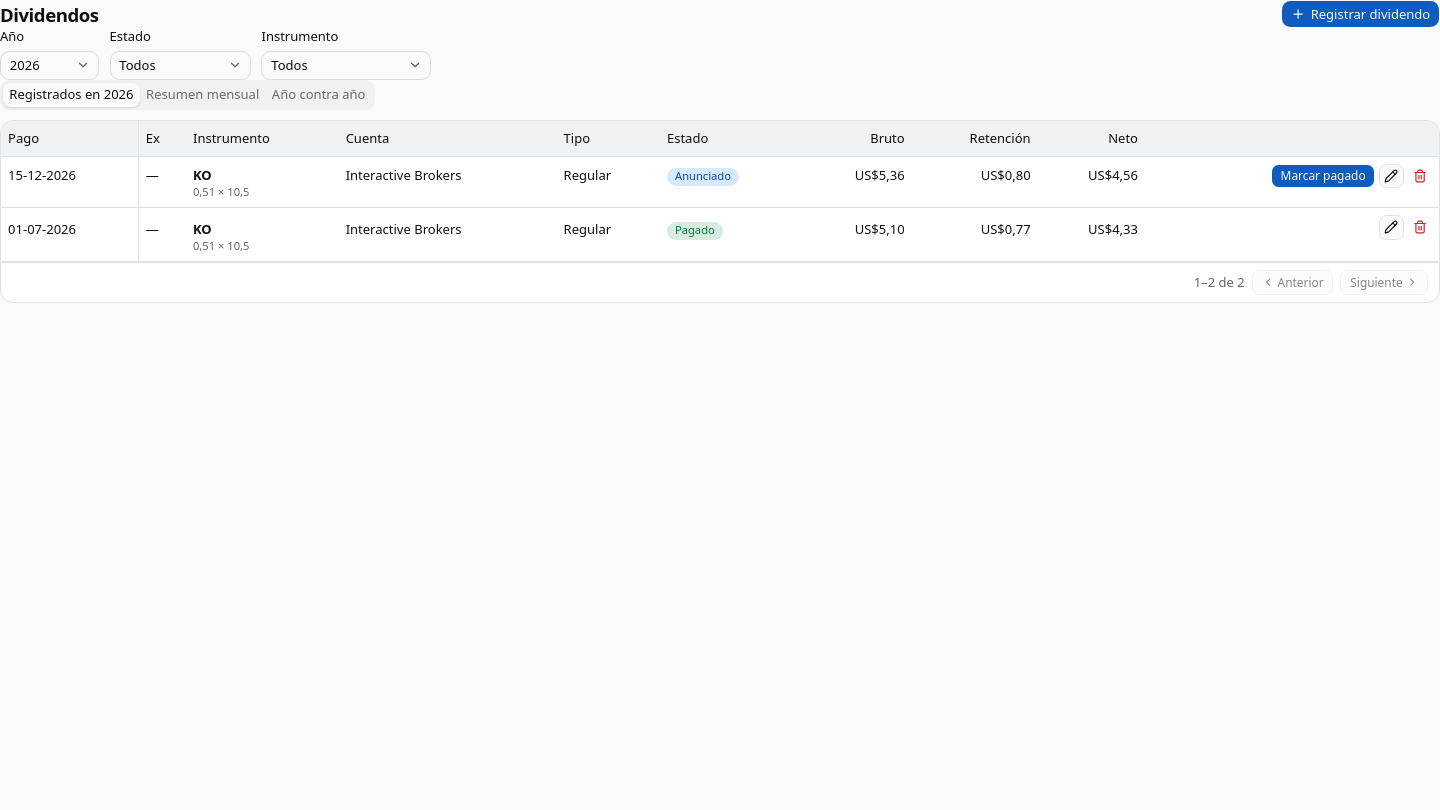
Test: DividendsScreen › "Marcar pagado" valida el neto antes de enviar
Click the button "Marcar pagado" at (1323,176), box [1271,164,1375,188]
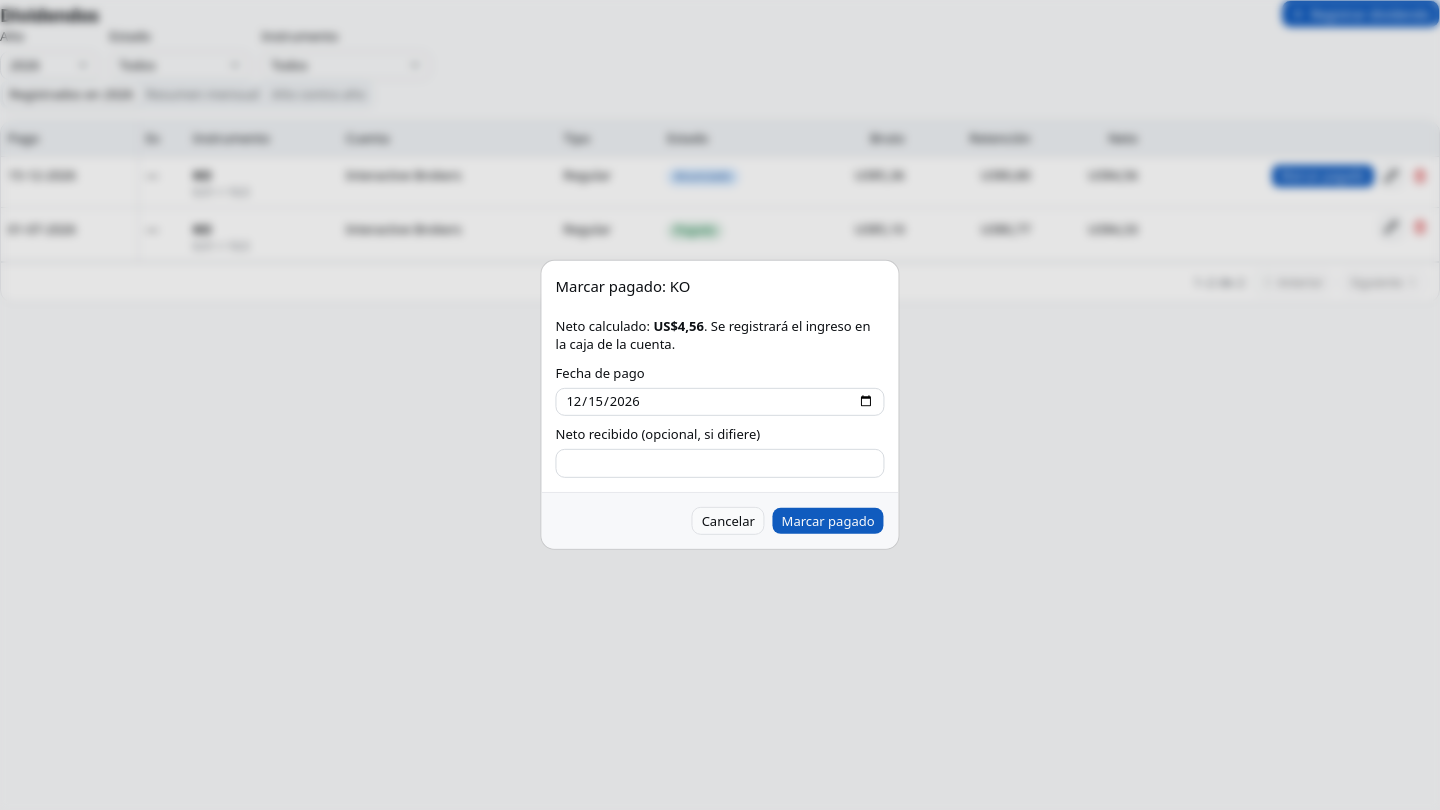
Type "cuatro" into the field labelled "Neto recibido (opcional, si difiere)" at (720,463), box [556,449,884,478]
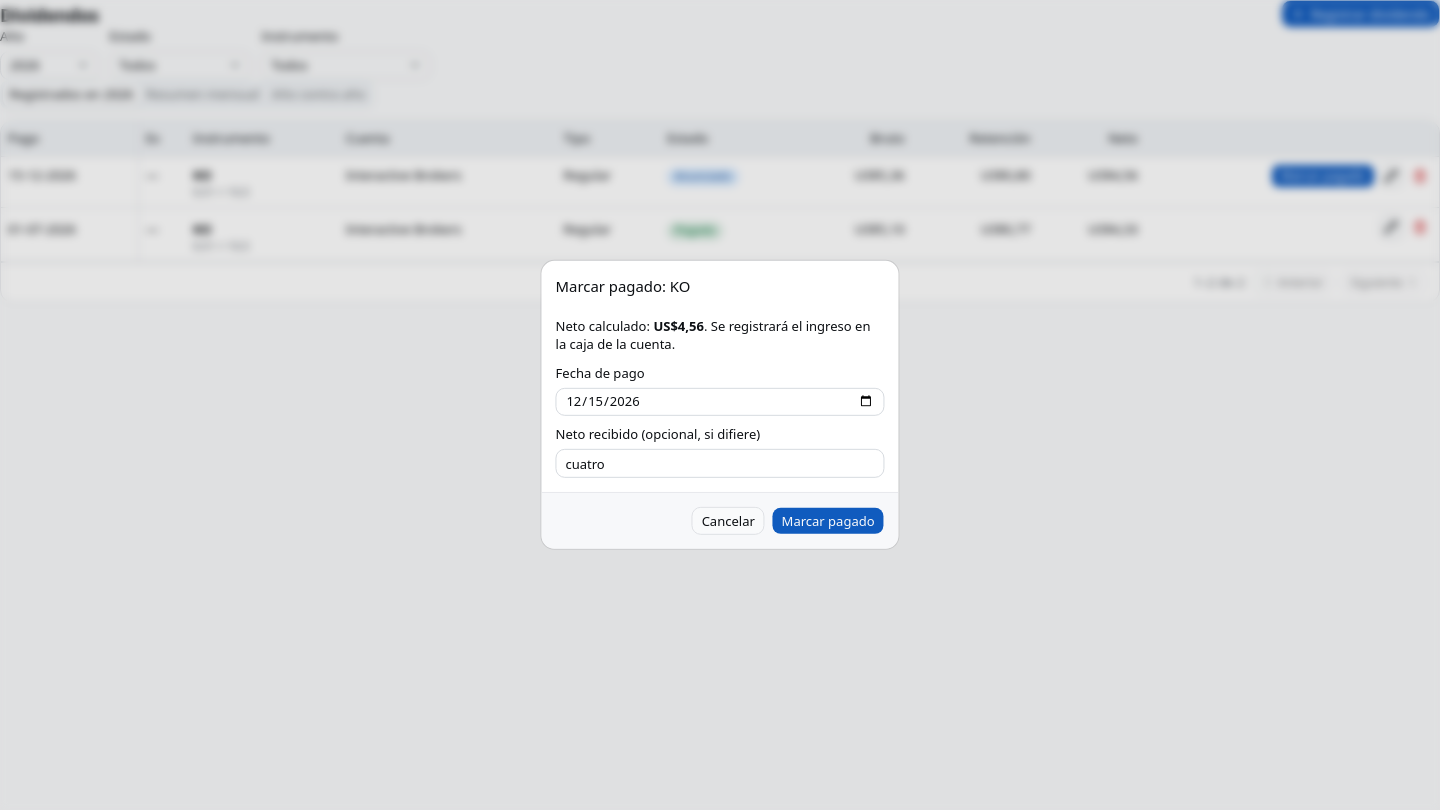
Click the button "Marcar pagado" at (828,521), box [772,507,884,535]
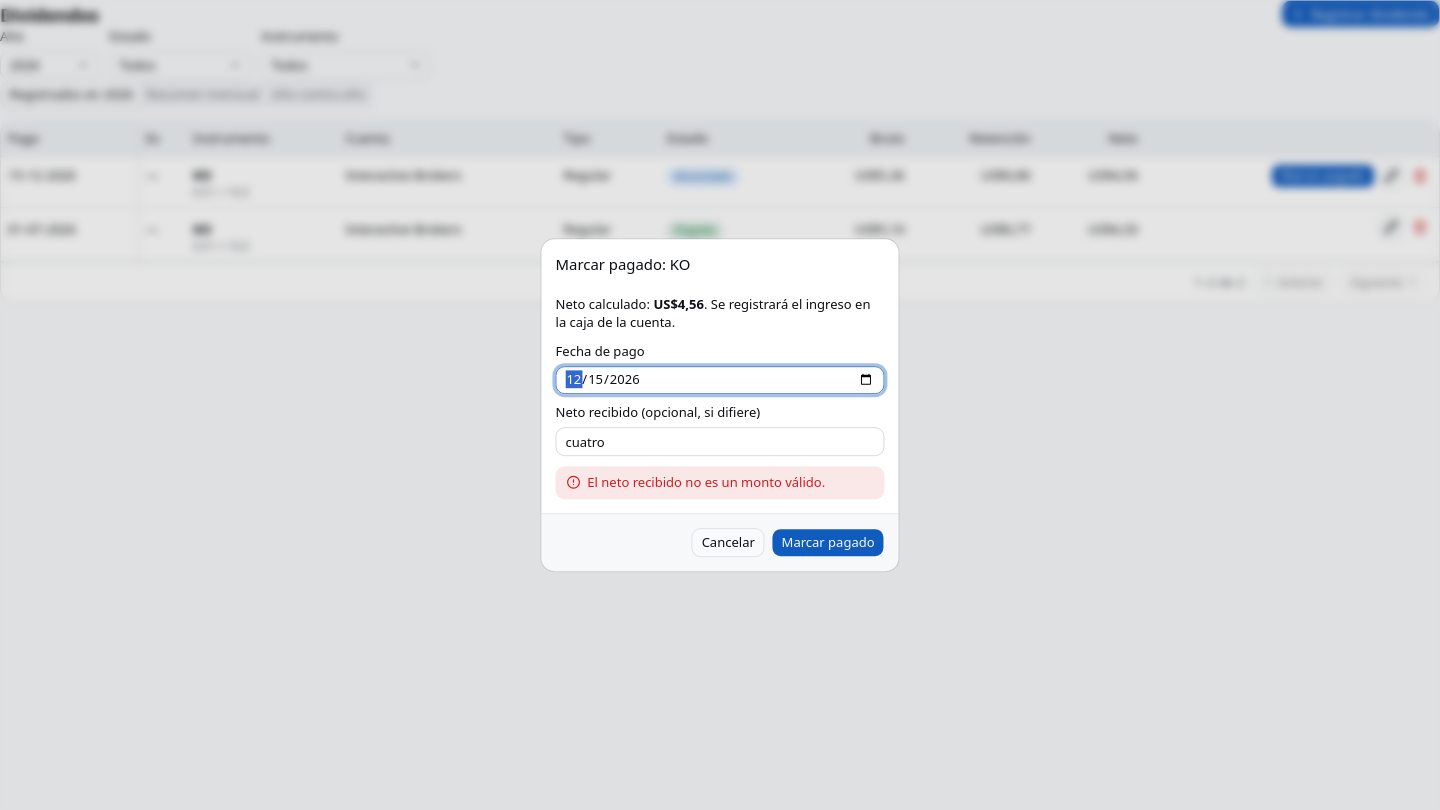
Expected: the message reads "El neto recibido no es un monto válido.", [587,474,825,492]
